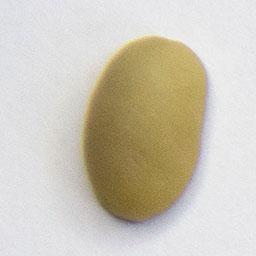defect: (77, 30, 217, 229)
